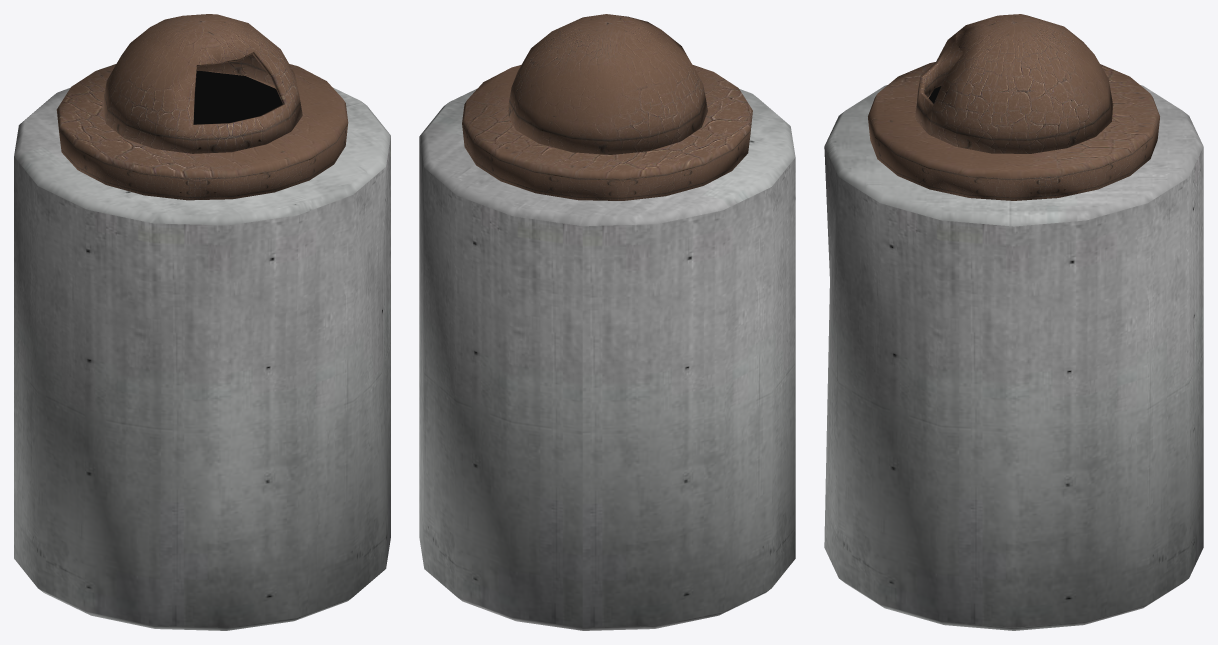
Rendered from outdoor_cement_trashcan_round_2.fbx.
3 views of the same model, side by side, from view 1: azimuth 30°, elevation 25°; view 2: azimuth 150°, elevation 25°; view 3: azimuth 270°, elevation 25° (orthographic).
Visible parts, largest first — view 1: canCement_round_B, canRim, canShell, Cylinder01; view 2: canCement_round_B, canShell, canRim; view 3: canCement_round_B, canShell, canRim.
Part boxes in pixels (x1,y1,x2,y2): canCement_round_B: (14,87,390,630); canRim: (56,64,348,200); canShell: (102,14,302,153); Cylinder01: (193,71,282,124); canCement_round_B: (419,88,795,630); canShell: (507,14,707,154); canRim: (462,64,752,200); canCement_round_B: (824,85,1203,630); canShell: (914,14,1113,153); canRim: (868,62,1159,200).
Size of the model in its own units: 0.752 by 1.16 by 0.752.
